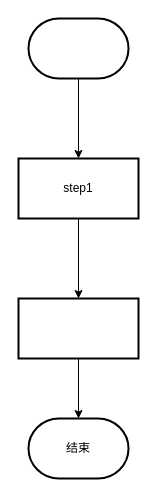
Image size: 156x496. Some labels were removed from this diagram. Each missing label, with the centre of its shape:
"step2" belongs at (78,328).
"开始" belongs at (78,48).
